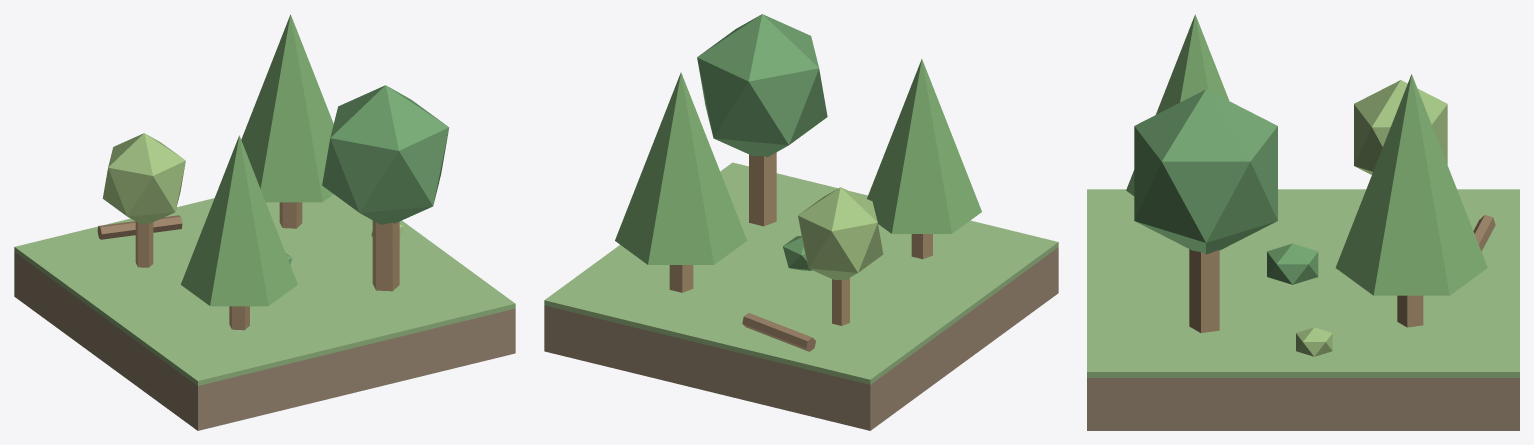
File: terreno__arvores_mata.glb
The picture shows the model from 3 angles, left to right: view 1: azimuth 30°, elevation 25°; view 2: azimuth 150°, elevation 25°; view 3: azimuth 270°, elevation 25°; orthographic projection. The views are drawn at different scales.
Visible parts, largest first — view 1: terreno__arvores_mata; view 2: terreno__arvores_mata; view 3: terreno__arvores_mata.
Part boxes in pixels (bbox=[...]): terreno__arvores_mata: bbox=[14, 14, 515, 430]; terreno__arvores_mata: bbox=[544, 14, 1058, 430]; terreno__arvores_mata: bbox=[1087, 14, 1519, 430].
Size of the model in its own units: 2 by 1.56 by 2.
